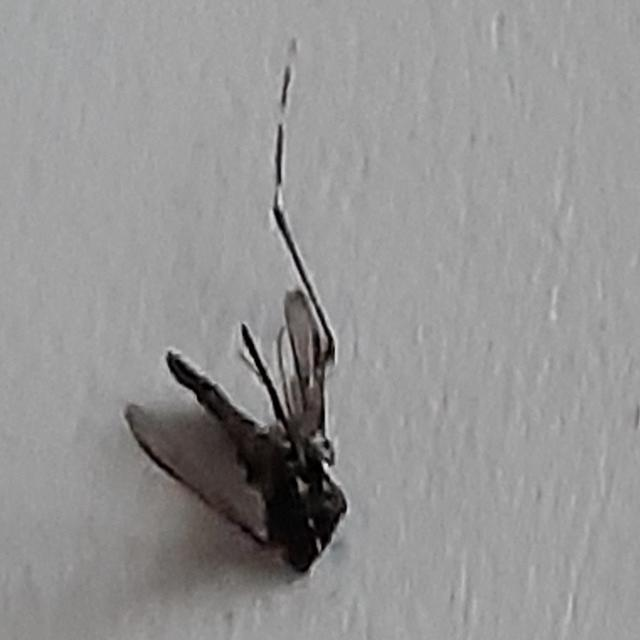albopictus: (120, 47, 385, 580)
